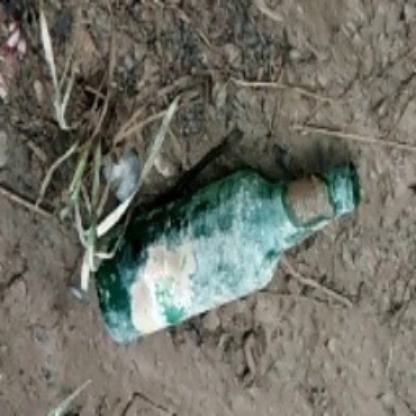bottle: (90, 152, 370, 348)
